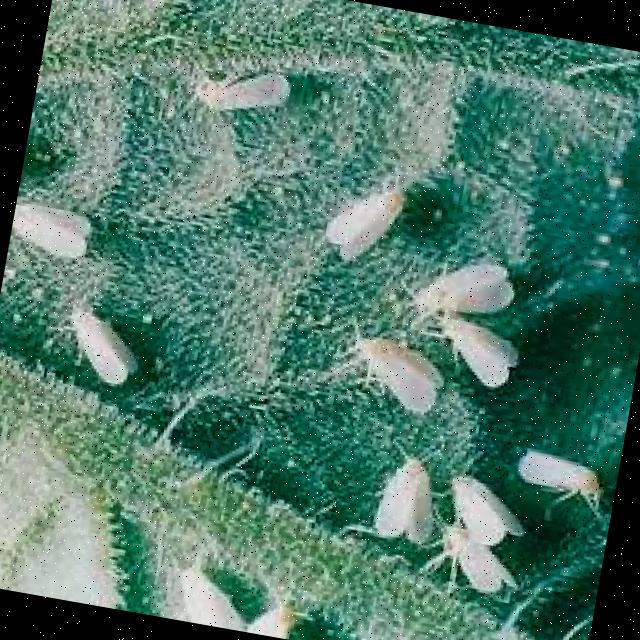whitefly: (0, 25, 640, 604), (159, 554, 326, 640)
